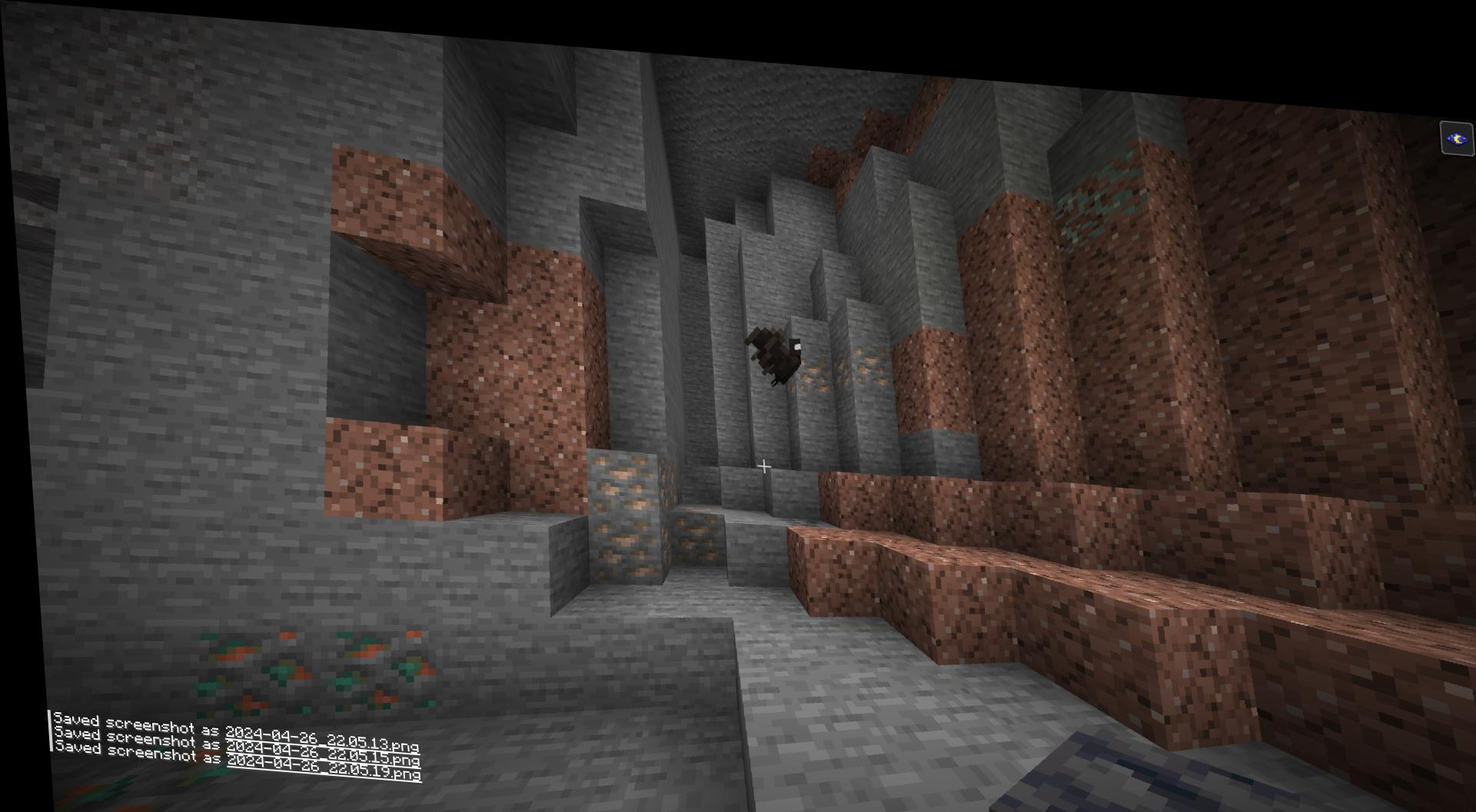iron ore: (583, 434, 656, 508), (582, 502, 655, 572), (663, 503, 719, 552), (834, 326, 887, 375), (789, 345, 829, 378)
